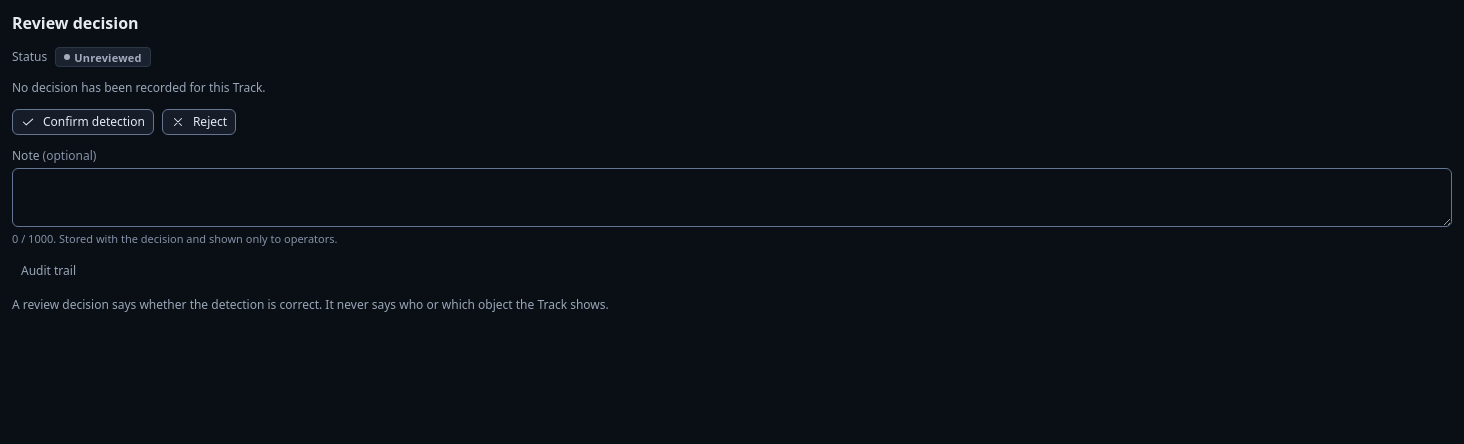
PoC S11-full Track review controls › names the decision recorded first on a 409 conflict, and refreshes
This screenshot has width=1464, height=444.
Click the button "Confirm detection" at (83,122), box [12,109,154,135]
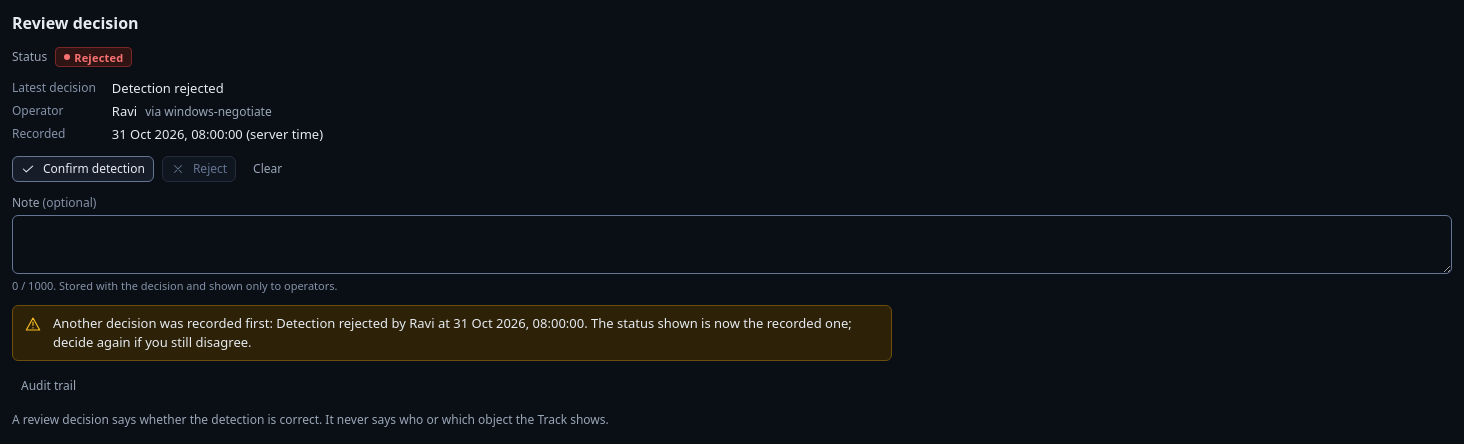
Check: the text "Another decision was recorded first: Detection rejected by Ravi at " is shown, box [53,314,852,351]
Check: the text "Rejected" is shown, box [55,47,132,67]
